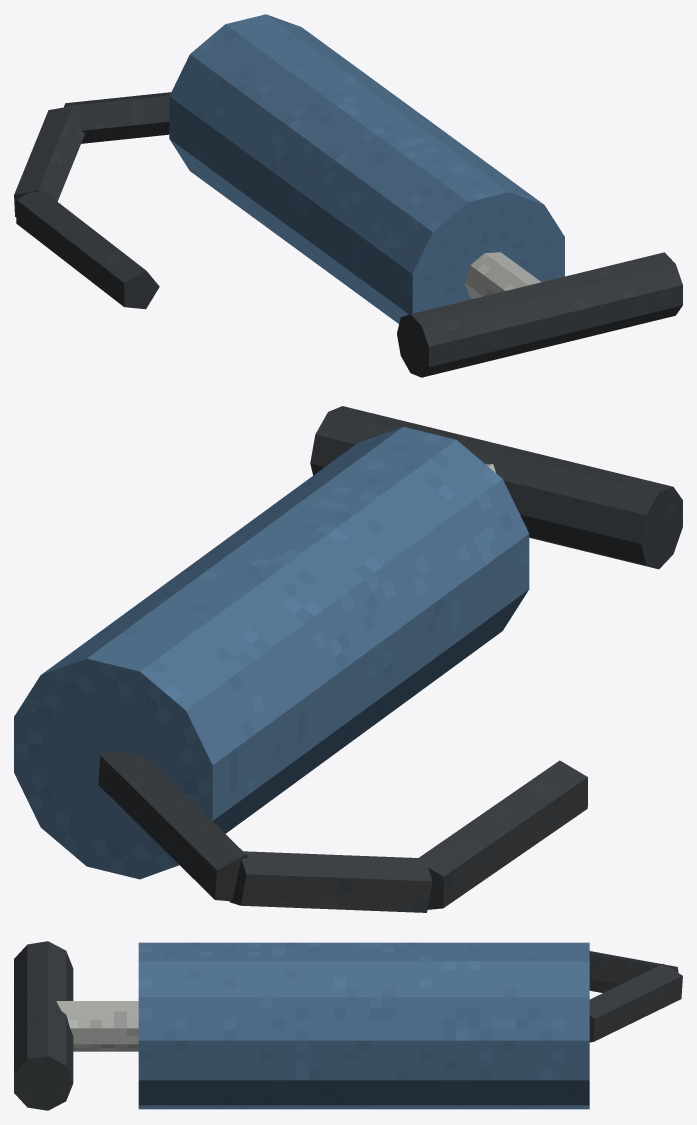
The model's file is hand_pump.glb.
3 views of the same model, one above another, from view 1: azimuth 30°, elevation 25°; view 2: azimuth 150°, elevation 25°; view 3: azimuth 270°, elevation 25° (orthographic). The views are drawn at different scales.
Parts seen in each view (by area): view 1: block_pump body, block_T grip, block_air hose 2, block_air hose 0, block_air hose 1, block_piston rod; view 2: block_pump body, block_T grip, block_air hose 1, block_air hose 2, block_air hose 0; view 3: block_pump body, block_T grip, block_air hose 0, block_piston rod, block_air hose 1.
Part boxes in pixels (left/top/right/bottom): block_pump body: left=169, top=14, right=564, bottom=323; block_T grip: left=397, top=252, right=682, bottom=377; block_air hose 2: left=16, top=188, right=159, bottom=309; block_air hose 0: left=64, top=92, right=170, bottom=143; block_air hose 1: left=14, top=107, right=84, bottom=216; block_piston rod: left=465, top=252, right=541, bottom=298; block_pump body: left=14, top=427, right=529, bottom=879; block_T grip: left=310, top=406, right=682, bottom=569; block_air hose 1: left=229, top=851, right=432, bottom=912; block_air hose 2: left=419, top=760, right=587, bottom=909; block_air hose 0: left=98, top=750, right=248, bottom=901; block_pump body: left=138, top=942, right=589, bottom=1109; block_T grip: left=14, top=941, right=73, bottom=1110; block_air hose 0: left=589, top=963, right=682, bottom=1042; block_piston rod: left=56, top=1001, right=138, bottom=1051; block_air hose 1: left=589, top=951, right=678, bottom=992.
Bounding box in the file's own units: 0.0884 × 0.0364 × 0.1492.
1 material, 1 textured.
